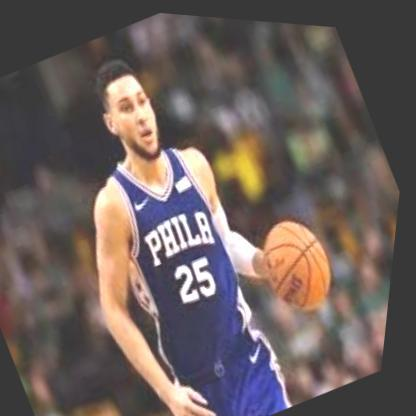basketball: (252, 202, 353, 312)
